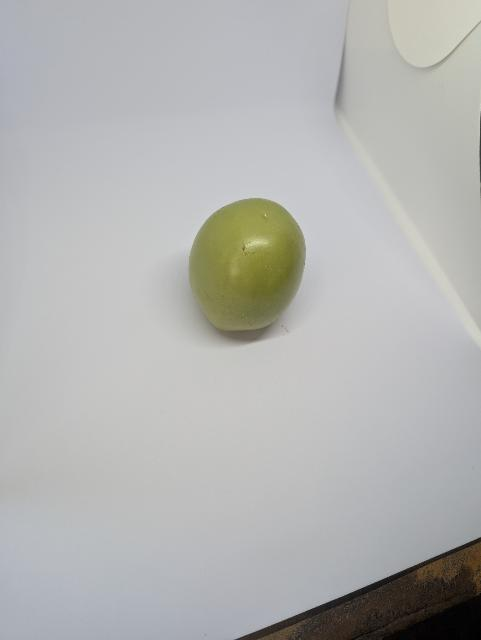green: (176, 187, 308, 339)
